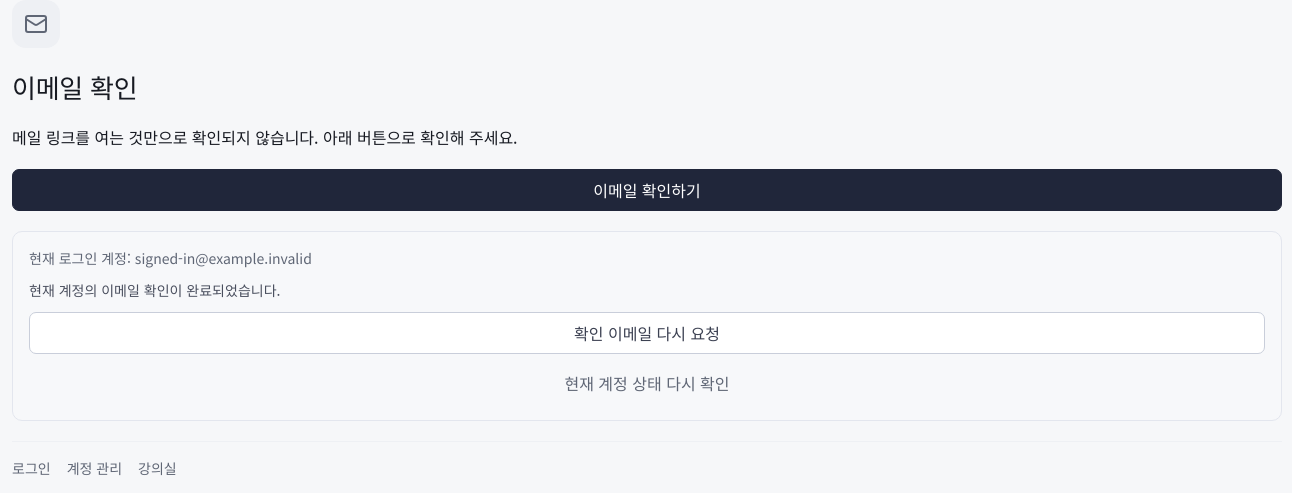
Test: a verified signed-in account cannot turn a pending or failed other-account link into success
This screenshot has width=1292, height=493.
Click the button "이메일 확인하기".
click(647, 190)  # box [12,169,1282,211]
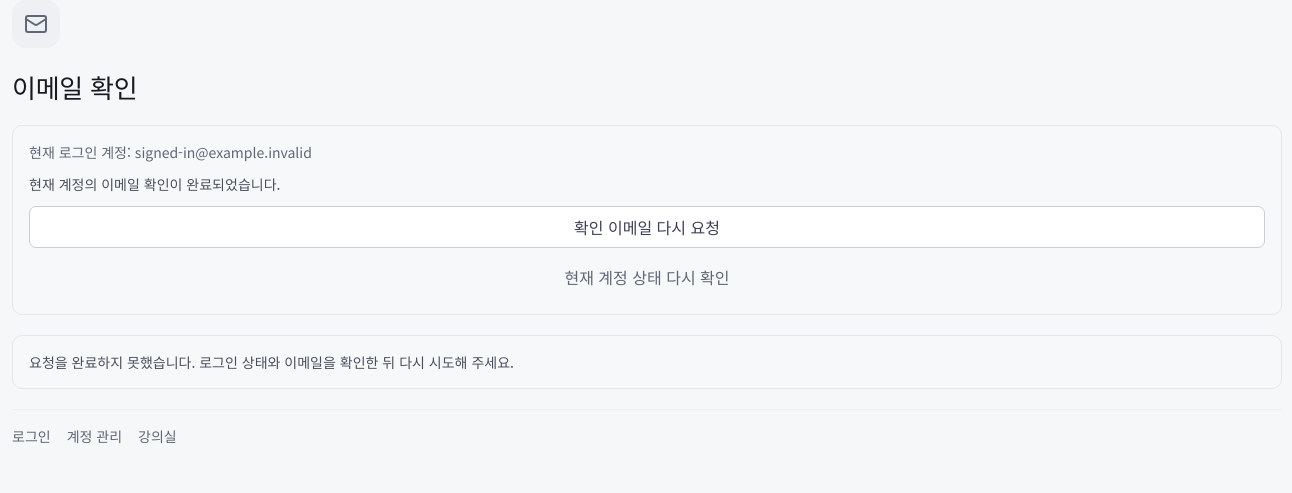
Expected: the text "요청을 완료하지 못했습니다. 로그인 상태와 이메일을 확인한 뒤 다시 시도해 주세요." is shown, [12,335,1282,389]
